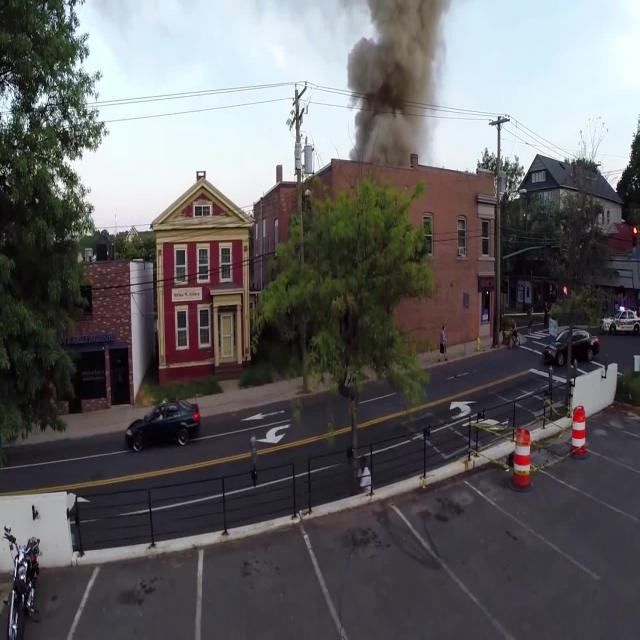Smoke: (344, 0, 458, 160)
